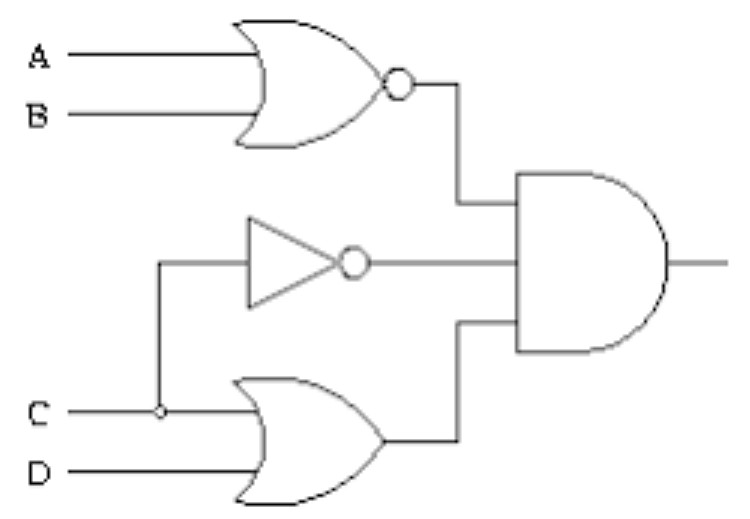and gate: (510, 169, 674, 361)
nor gate: (224, 15, 423, 153)
not gate: (242, 212, 380, 316)
or gate: (227, 371, 394, 510)
